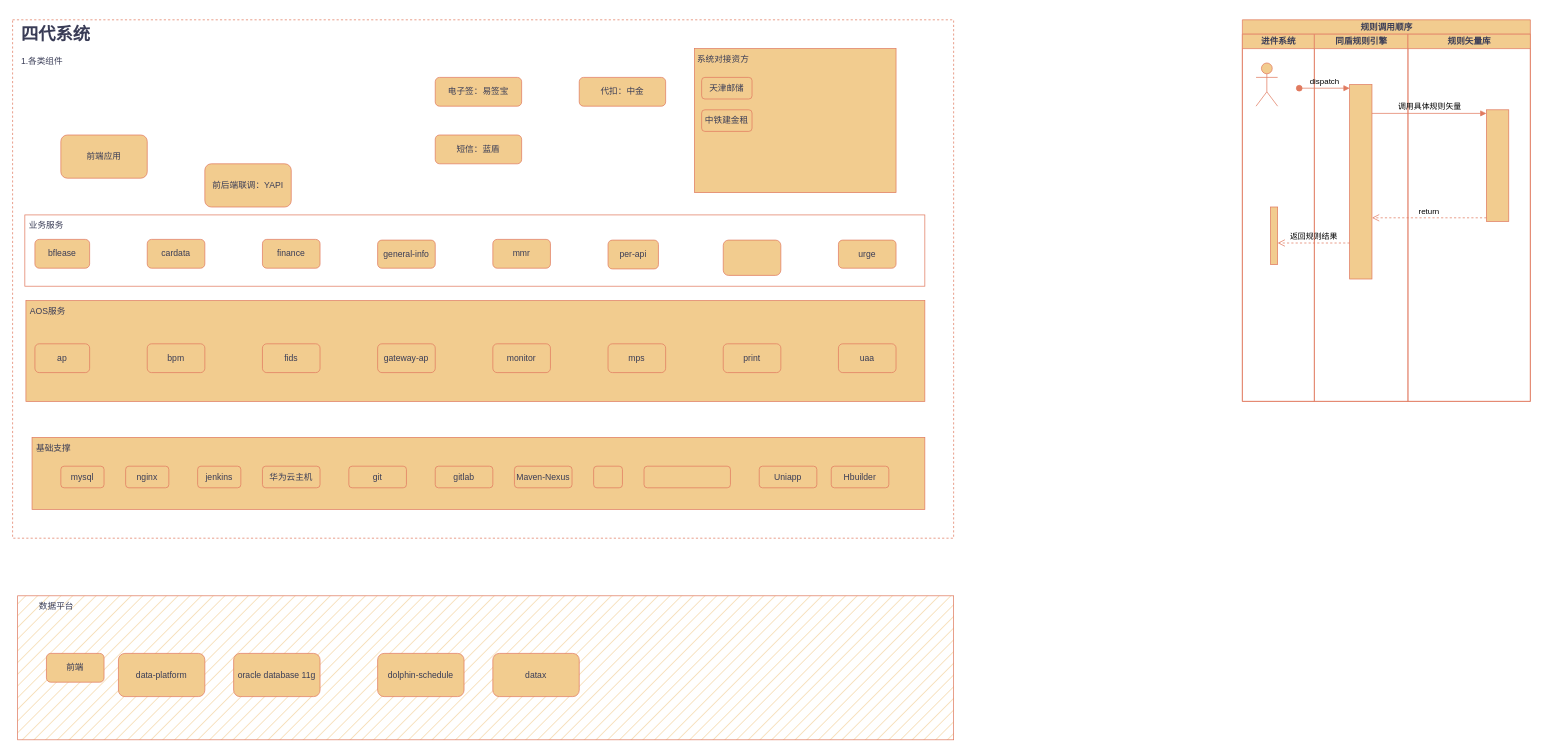
Some shapes in this 1543 by 752 pixel diagram are drawn without their labels. The shapes that lost their labels are listed below. From the top down, each one's centre as x and y in pixels, then its label:
the point at 1266,84: Actor
the point at 1360,181: 审批规则
the point at 1497,165: 矢量计算
the point at 752,257: per-approve
the point at 607,476: idea
the point at 686,476: visual studio code
